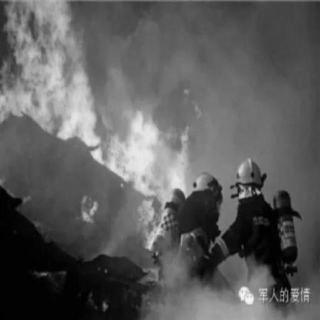Fire: (137, 194, 165, 250), (76, 195, 106, 222)
